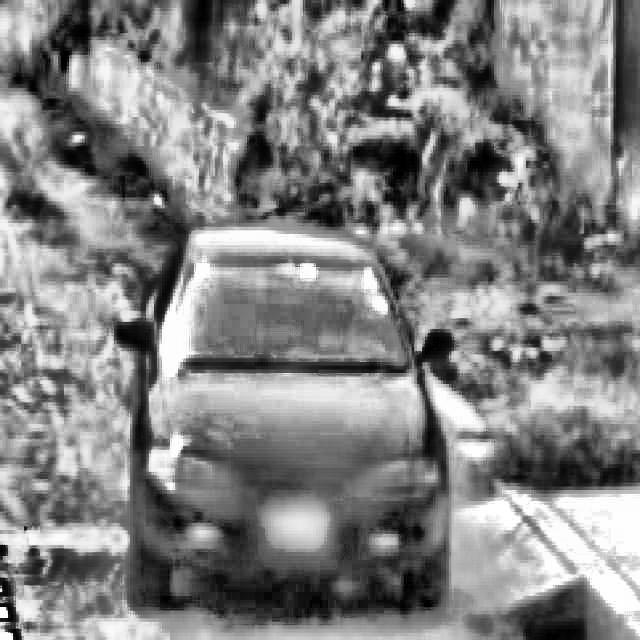carro: (119, 222, 452, 596)
